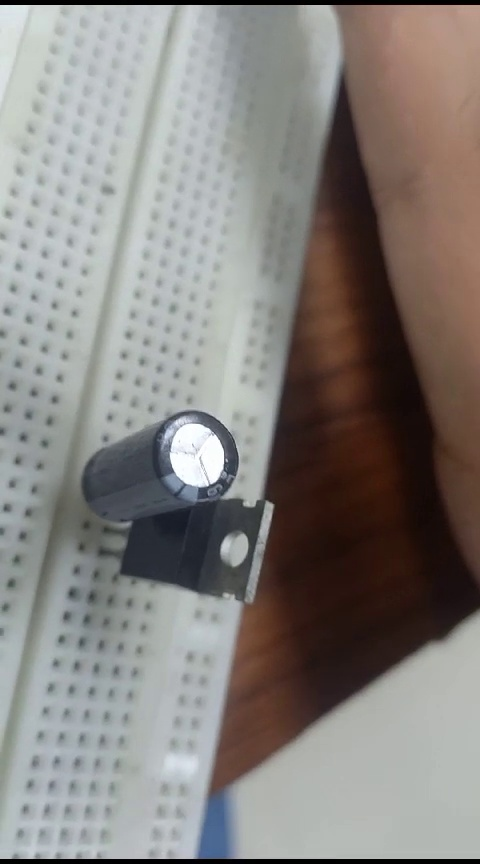capacitor: (80, 409, 243, 537)
voltage regulator: (134, 477, 279, 608)
